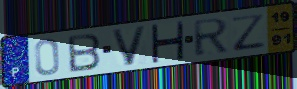0: (33, 37, 62, 77)
B: (65, 31, 102, 74)
H: (149, 21, 186, 64)
R: (191, 17, 231, 58)
V: (109, 25, 149, 68)
Z: (229, 12, 267, 53)
